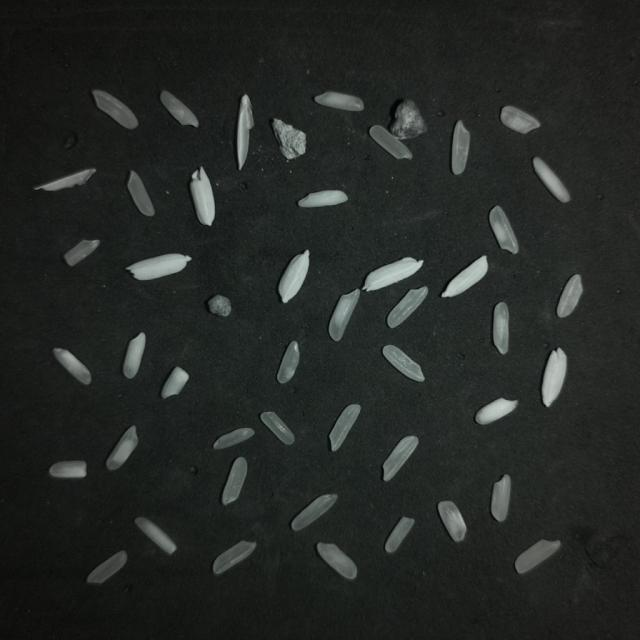broken: (500, 106, 539, 134), (64, 240, 99, 266), (161, 367, 189, 398), (49, 461, 86, 478)
chalky: (533, 157, 570, 203), (329, 289, 359, 341), (135, 517, 176, 554), (106, 426, 138, 470), (53, 348, 91, 384), (475, 398, 518, 424), (123, 333, 146, 378)
foreign: (363, 257, 423, 291), (442, 256, 488, 297), (127, 254, 191, 280), (279, 250, 309, 303), (383, 345, 424, 381), (390, 100, 426, 139), (190, 167, 214, 225), (542, 349, 566, 406), (34, 169, 96, 191), (272, 119, 306, 159), (237, 95, 253, 169), (208, 295, 231, 316)
whole: (92, 90, 138, 129), (387, 287, 428, 328), (291, 494, 337, 530), (383, 436, 418, 481), (329, 404, 361, 451), (515, 540, 560, 573), (317, 543, 357, 579), (370, 125, 412, 159), (213, 541, 256, 574), (489, 206, 518, 254), (160, 91, 198, 127), (87, 550, 127, 584), (127, 170, 154, 216), (222, 457, 247, 505), (557, 274, 583, 318), (438, 501, 466, 541), (260, 412, 294, 444), (385, 517, 414, 553), (277, 341, 300, 384), (314, 92, 364, 111), (491, 475, 511, 521), (452, 121, 469, 174), (298, 190, 348, 208), (214, 428, 254, 449), (493, 302, 509, 354)
